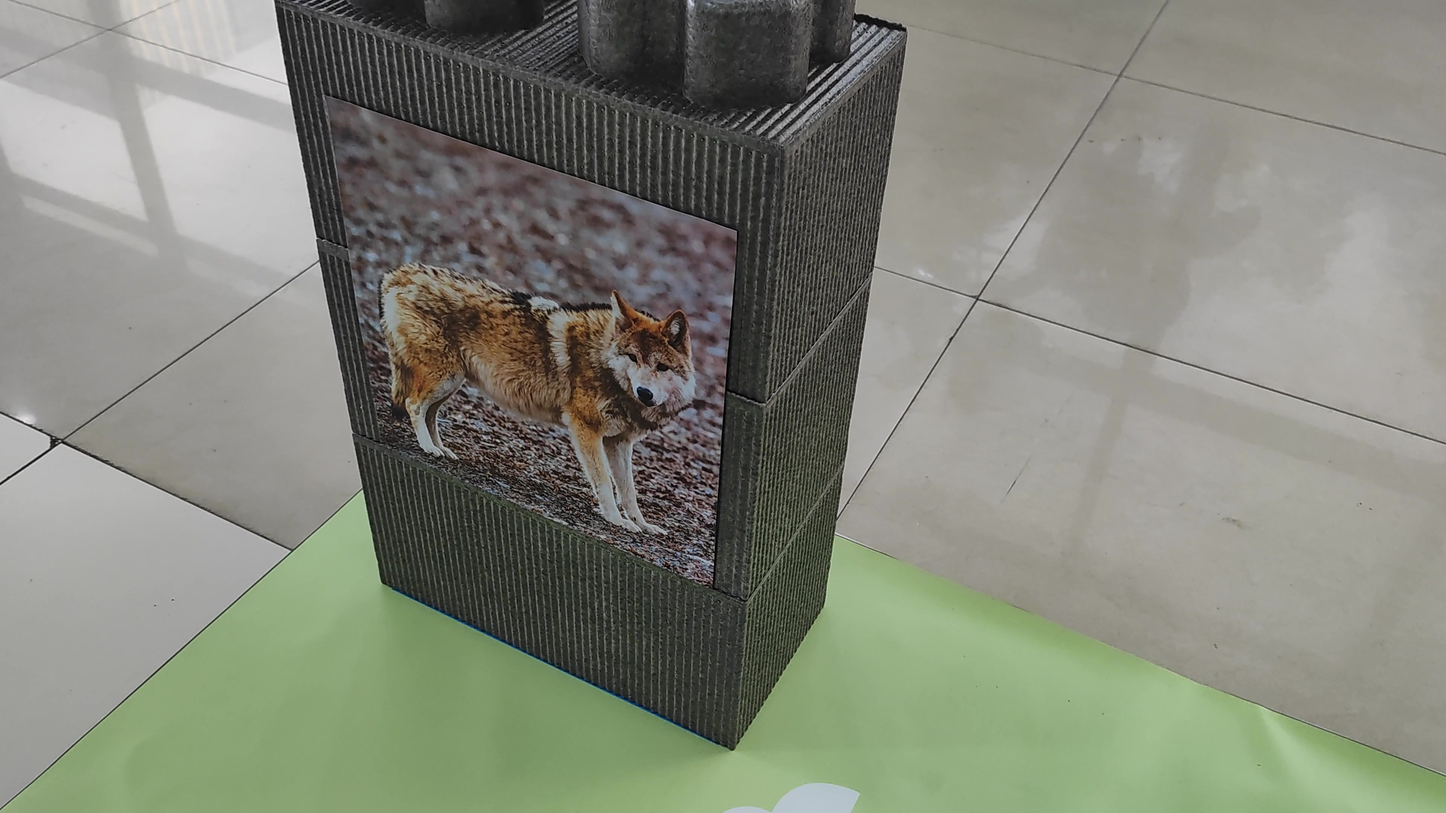wolf: (340, 189, 716, 572)
